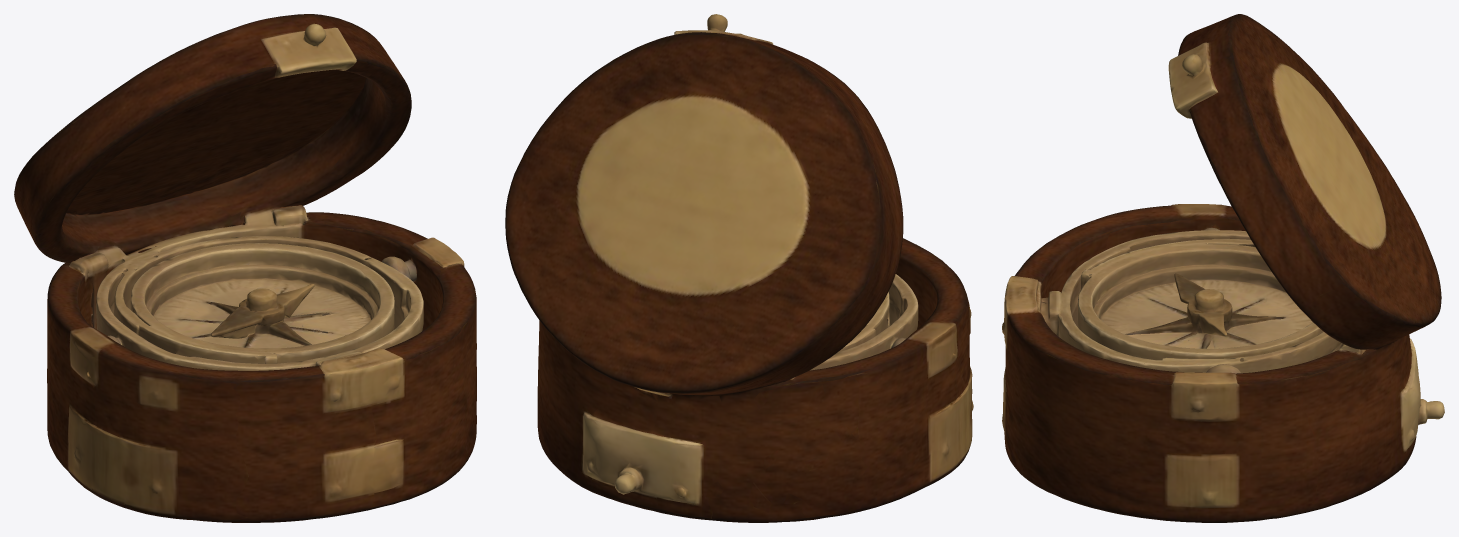
File: generation_compass_0.glb
The picture shows the model from 3 angles, left to right: view 1: azimuth 30°, elevation 25°; view 2: azimuth 150°, elevation 25°; view 3: azimuth 270°, elevation 25°; orthographic projection.
Parts seen in each view (by area): view 1: geometry_0; view 2: geometry_0; view 3: geometry_0.
Part boxes in pixels (x1,y1,x2,y2): geometry_0: (14, 14, 476, 522); geometry_0: (505, 14, 973, 522); geometry_0: (1002, 14, 1444, 522).
Size of the model in its own units: 0.9802 by 1 by 0.9965.
1 material, 1 textured.
